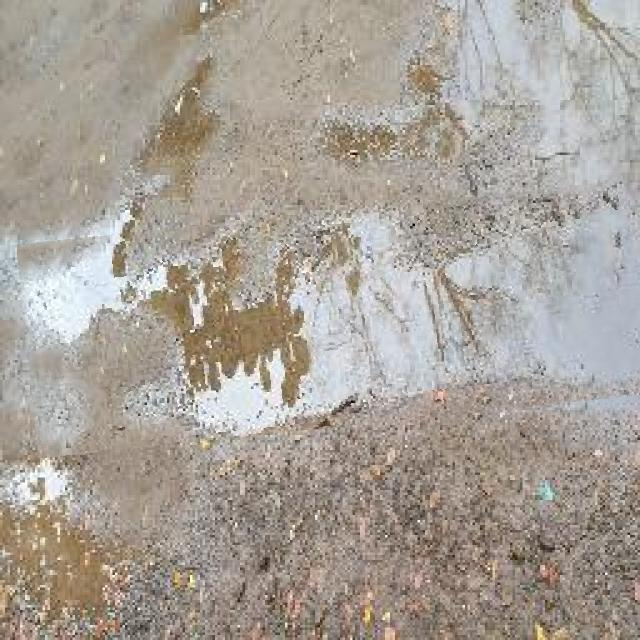puddle: (23, 197, 640, 443)
